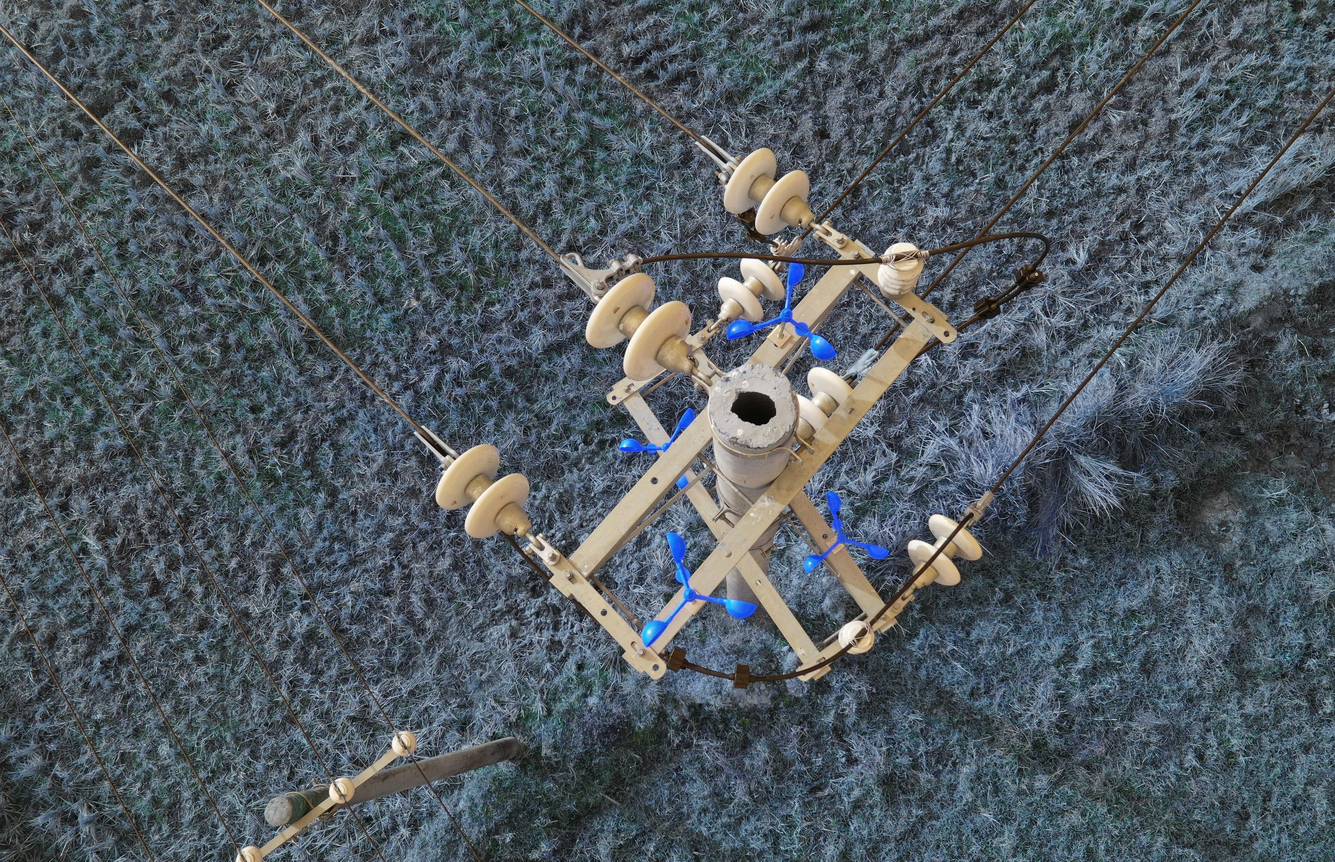severe_soiling_no_discharge_whole: (876, 243, 926, 299)
